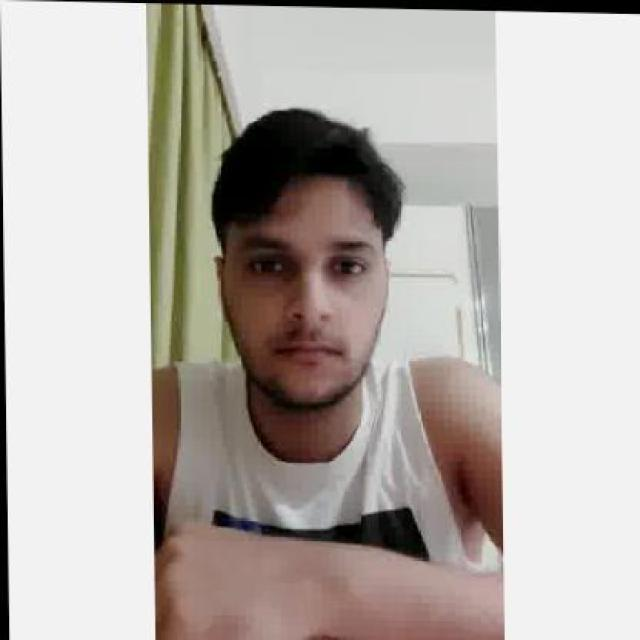attentif: (214, 104, 389, 408)
